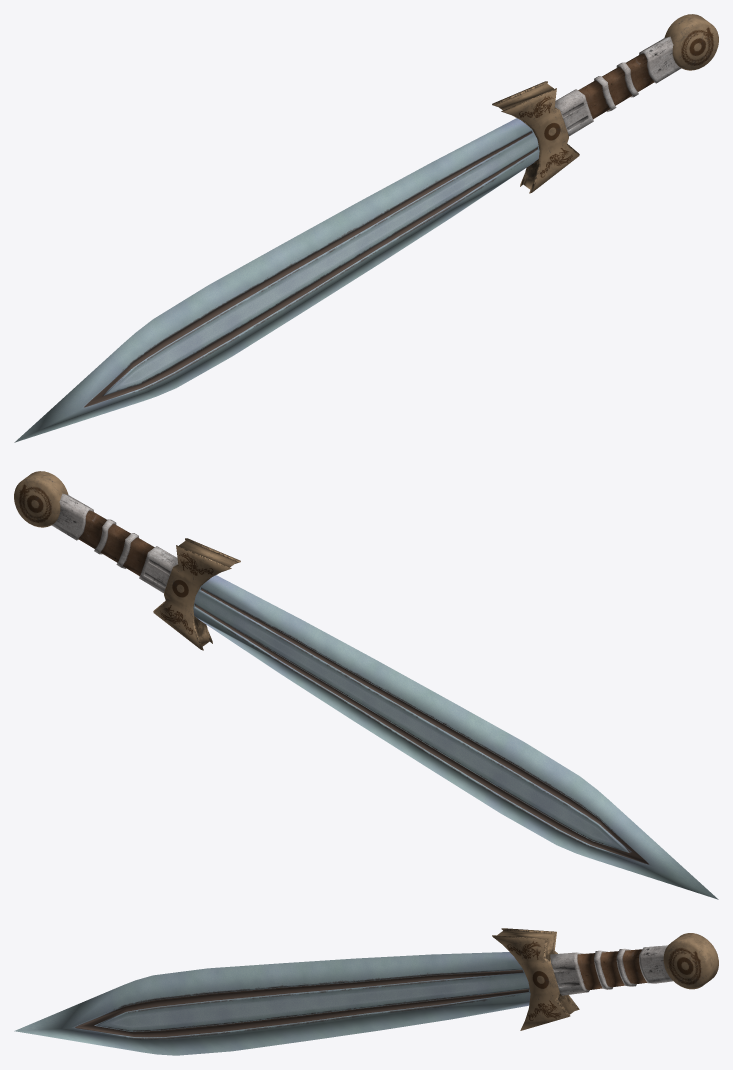
The model's file is sword.gltf.
3 views of the same model, one above another, from view 1: azimuth 30°, elevation 25°; view 2: azimuth 150°, elevation 25°; view 3: azimuth 330°, elevation 25° (orthographic).
Parts seen in each view (by area): view 1: Blade_0, Hilt_1, Guard_3, Pommel_2; view 2: Blade_0, Hilt_1, Guard_3, Pommel_2; view 3: Blade_0, Hilt_1, Guard_3, Pommel_2.
Part boxes in pixels (x1=…): Blade_0: x1=14, y1=118, x2=539, y2=442; Hilt_1: x1=555, y1=36, x2=681, y2=136; Guard_3: x1=492, y1=81, x2=579, y2=193; Pommel_2: x1=664, y1=14, x2=718, y2=70; Blade_0: x1=193, y1=575, x2=718, y2=899; Hilt_1: x1=51, y1=493, x2=177, y2=593; Guard_3: x1=153, y1=538, x2=240, y2=650; Pommel_2: x1=14, y1=471, x2=68, y2=527; Blade_0: x1=14, y1=952, x2=530, y2=1055; Hilt_1: x1=550, y1=945, x2=673, y2=995; Guard_3: x1=492, y1=928, x2=579, y2=1030; Pommel_2: x1=663, y1=933, x2=718, y2=989.
Bounding box in the file's own units: 9.03 × 3.2 × 0.28.
4 materials, 4 textured.
